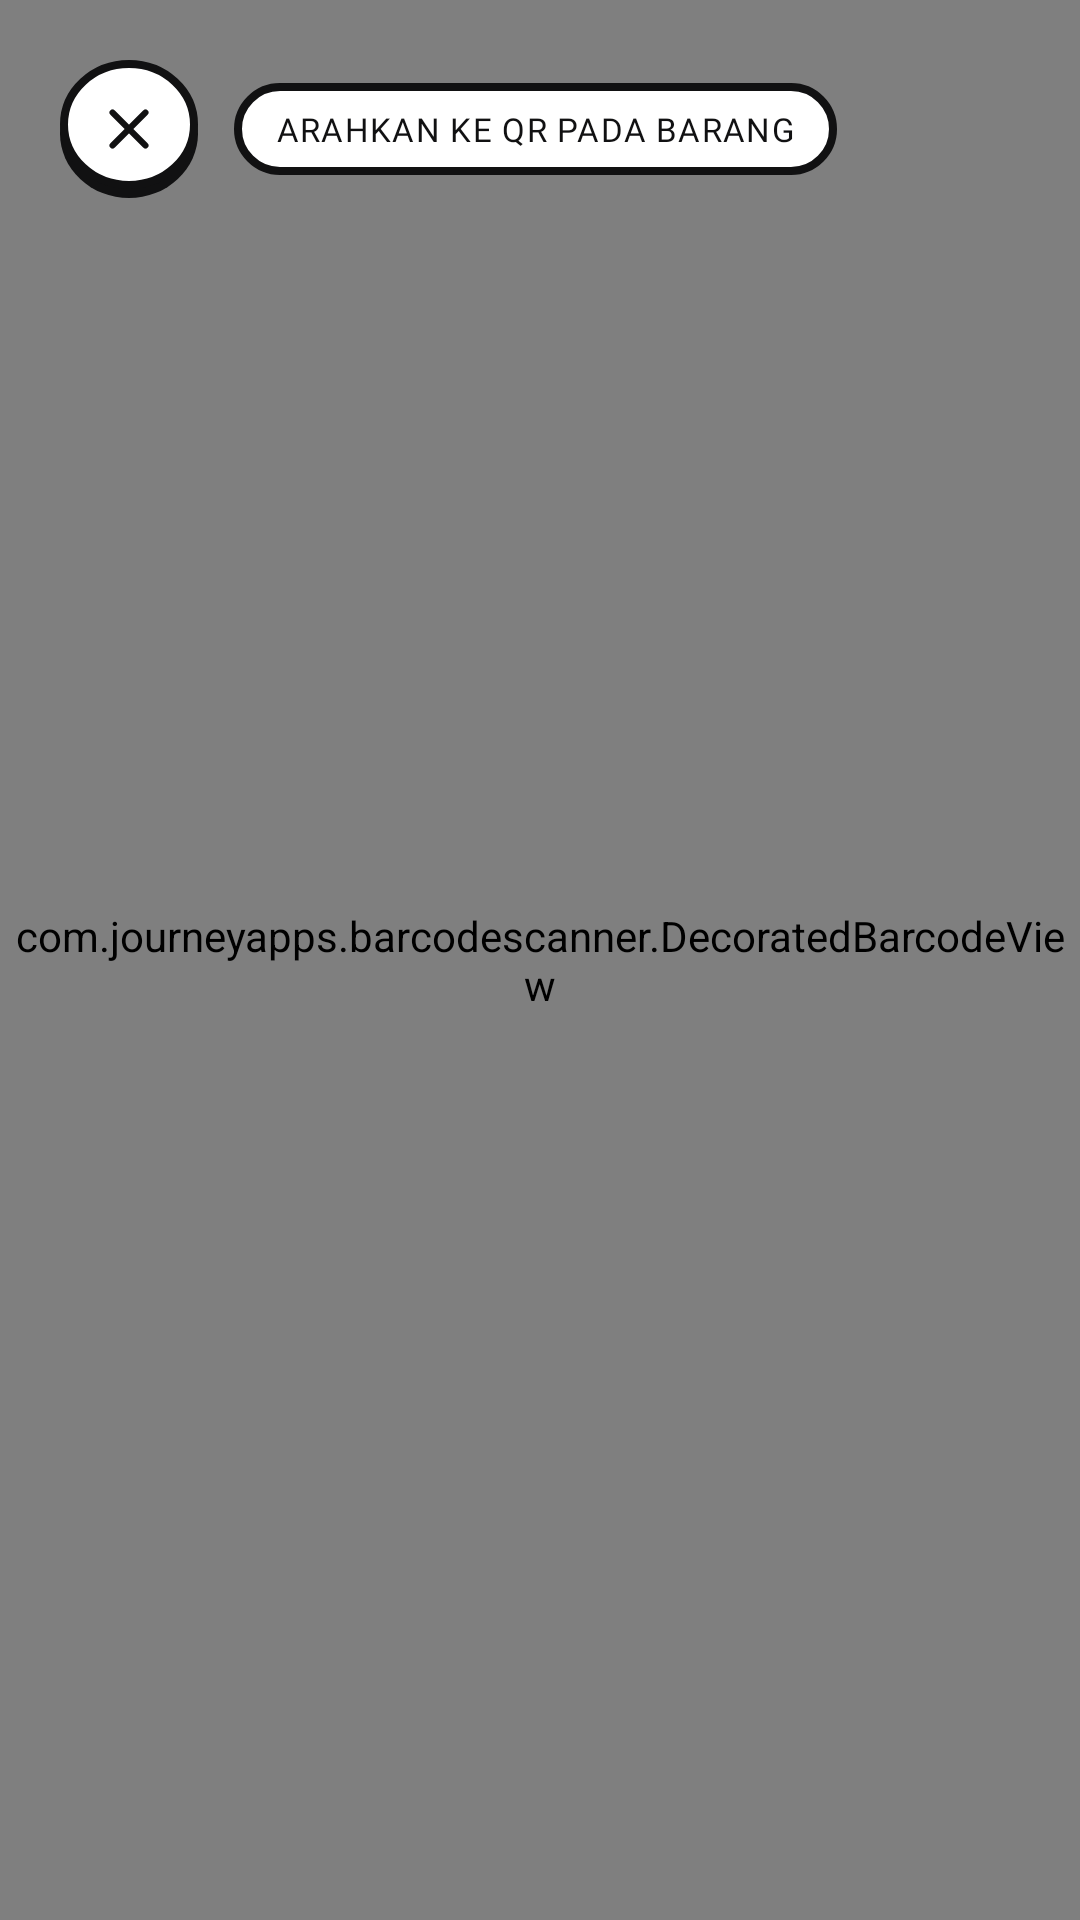

Icon click points for this 1080px×1920px phone screenshot, format point (x, y):
Tutup: point (129, 129)
